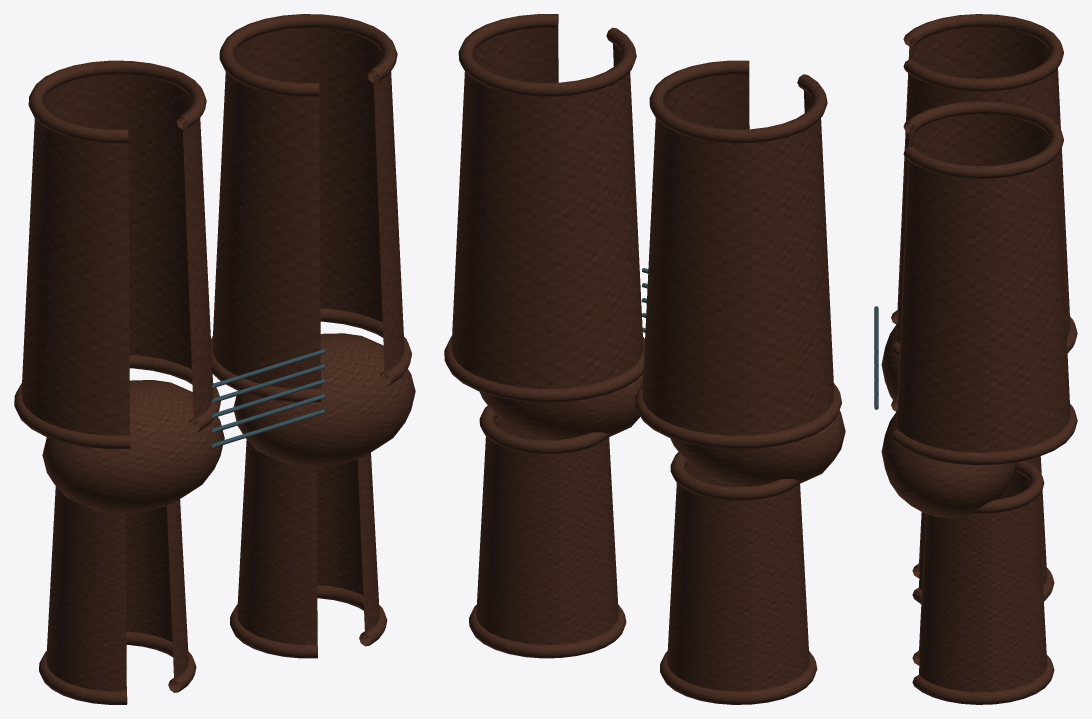
3 renders of one model, left to right at view 1: azimuth 30°, elevation 25°; view 2: azimuth 150°, elevation 25°; view 3: azimuth 270°, elevation 25°, orthographic. The views are drawn at different scales.
Parts seen in each view (by area): view 1: leather.0, leather.7, leather.11, leather.4, leather.3, leather.10, leather.2, leather.9, leather.1, leather.8, leather.12, leather.5; view 2: leather.0, leather.7, leather.4, leather.11, leather.3, leather.10, leather.2, leather.9, leather.1, leather.8, leather.12, leather.5 (+2 smaller); view 3: leather.7, leather.11, leather.0, leather.10, leather.9, leather.2, leather.8, leather.12, leather.13, leather.4, leather.3, leather.5 (+1 smaller).
Boxes of the visible parts, <box> form: leather.0: <box>21,74,213,435</box>; leather.7: <box>212,27,404,388</box>; leather.11: <box>237,439,379,644</box>; leather.4: <box>46,486,188,691</box>; leather.3: <box>42,380,224,513</box>; leather.10: <box>233,333,415,466</box>; leather.2: <box>28,60,206,143</box>; leather.9: <box>219,14,397,96</box>; leather.1: <box>14,355,220,448</box>; leather.8: <box>211,308,411,402</box>; leather.12: <box>230,585,387,658</box>; leather.5: <box>39,631,196,704</box>; leather.0: <box>642,69,834,435</box>; leather.7: <box>451,21,643,388</box>; leather.4: <box>667,463,809,691</box>; leather.11: <box>476,416,618,644</box>; leather.3: <box>670,410,845,486</box>; leather.10: <box>479,374,643,440</box>; leather.2: <box>649,60,827,143</box>; leather.9: <box>458,14,636,96</box>; leather.1: <box>635,382,841,448</box>; leather.8: <box>444,336,644,402</box>; leather.12: <box>469,604,626,658</box>; leather.5: <box>660,651,817,704</box>; leather.7: <box>897,114,1070,452</box>; leather.11: <box>918,471,1047,692</box>; leather.0: <box>897,27,1070,343</box>; leather.10: <box>881,409,1016,518</box>; leather.9: <box>903,101,1063,178</box>; leather.2: <box>903,14,1063,91</box>; leather.8: <box>891,397,1077,465</box>; leather.12: <box>912,650,1054,704</box>; leather.13: <box>972,460,1044,513</box>; leather.4: <box>918,456,1047,589</box>; leather.3: <box>881,322,899,399</box>; leather.5: <box>912,563,1054,603</box>.
Bounding box in the file's own units: 0.4659 × 0.696 × 0.2365.
Materials: 2 (2 with a texture image).
